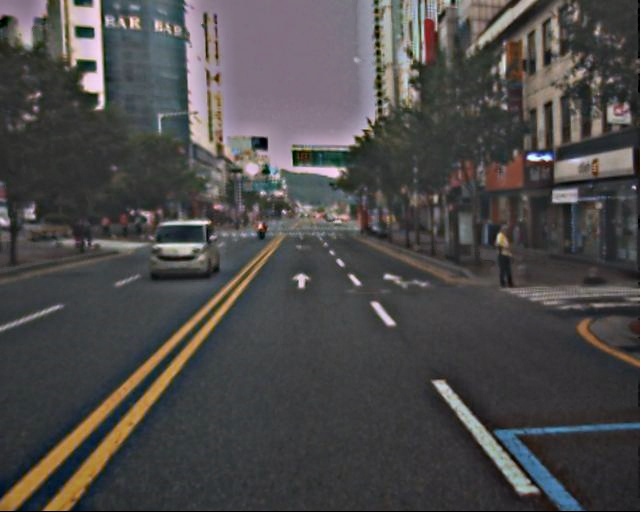person: (489, 223, 522, 294)
